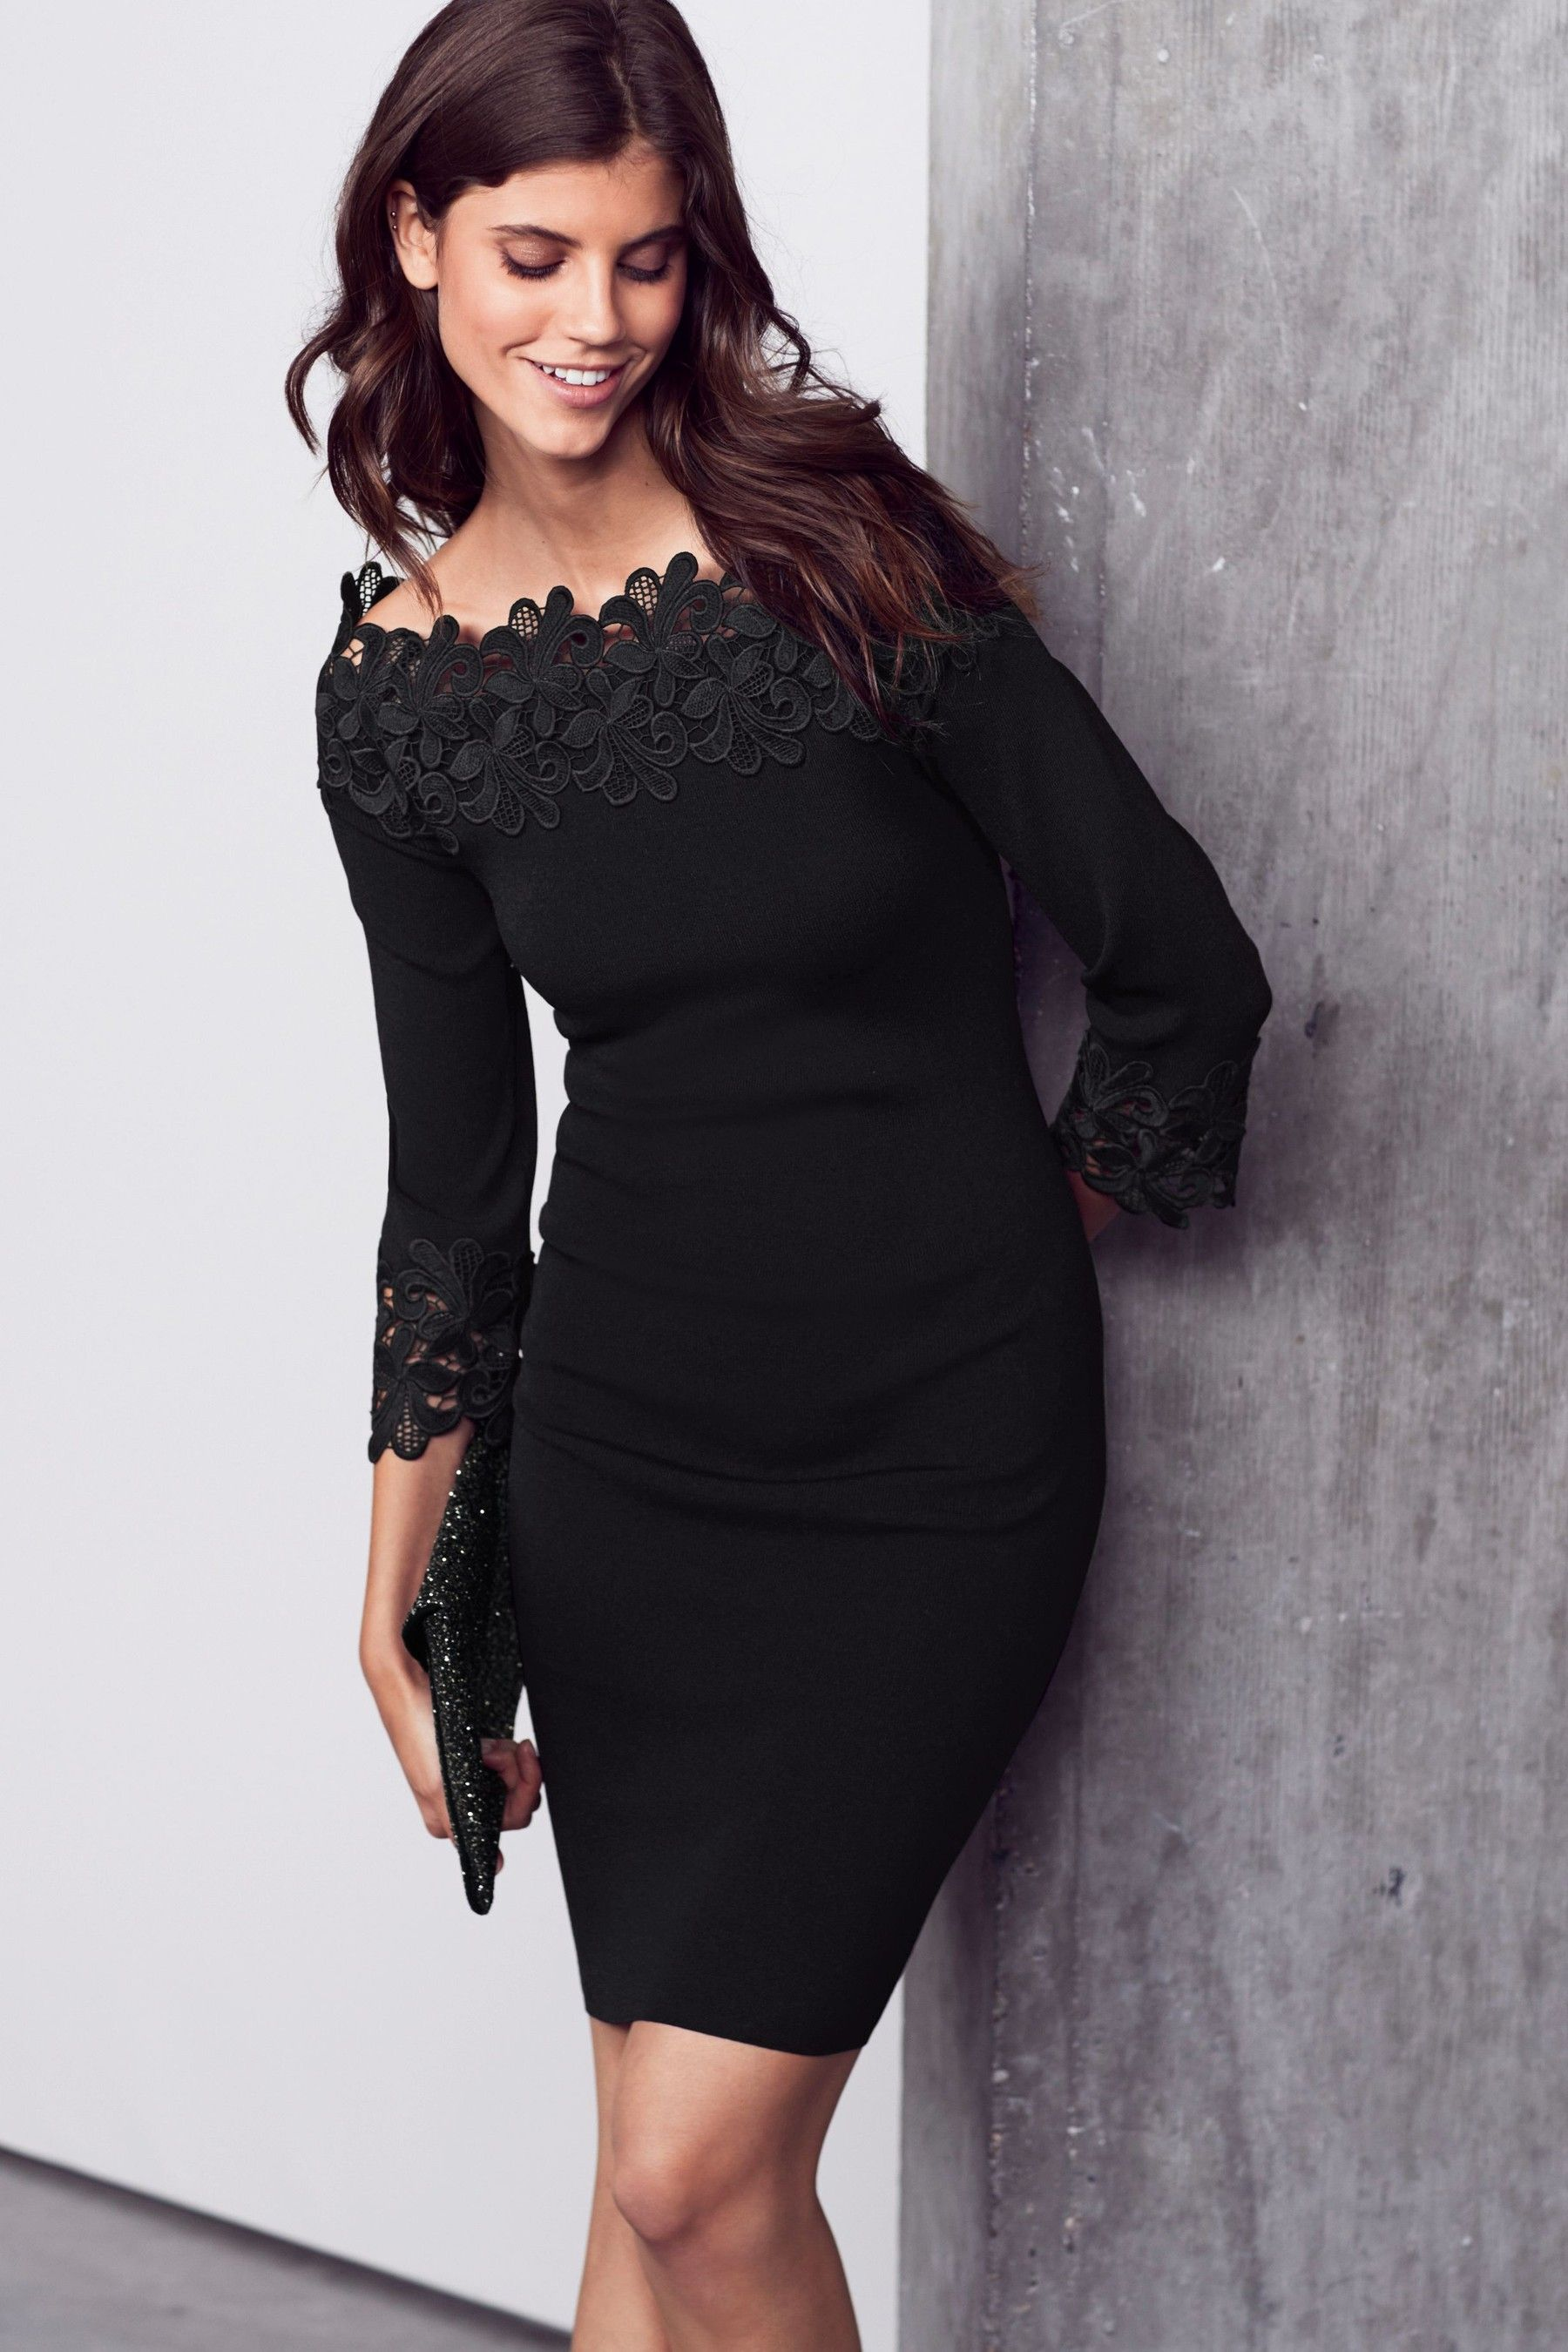S_dress: (250, 497, 1342, 2019)
